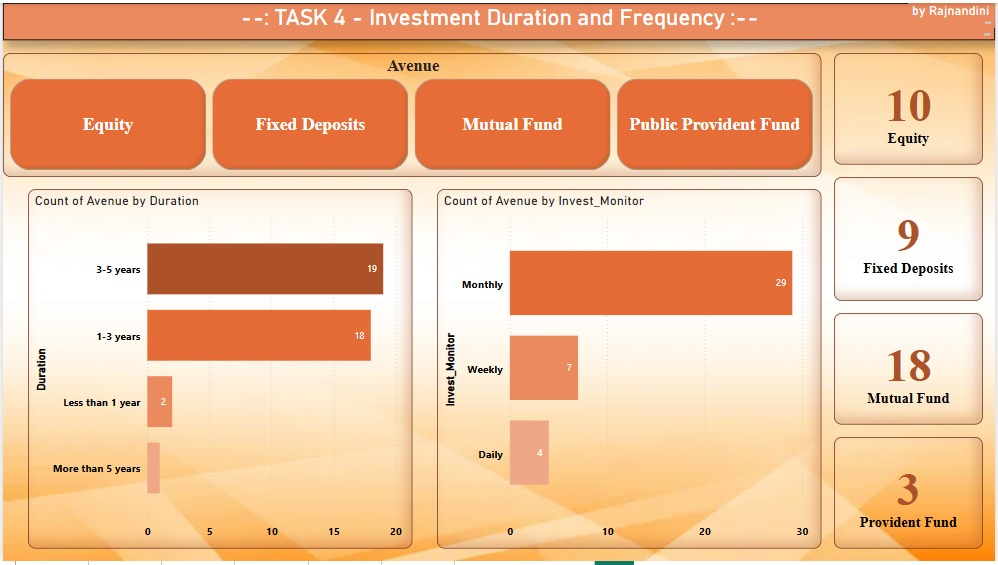

The dashboard page shown, as its layout file describes it:
{"tool":"powerbi","page":{"name":"Task 4","canvas":[1280,720],"ordinal":3},"visuals":[{"type":"textbox","title":"--: TASK 4 - Investment Duration and Frequency :--","box":[0,0,1280,48],"z":0},{"type":"card","fields":{"Values":["Data_set 2.Equity"]},"box":[1072,64,192,144],"z":1000},{"type":"clusteredBarChart","fields":{"Y":["Data_set 2.Avenue"],"Category":["Data_set 2.Duration"]},"box":[32,240,496,464],"z":2000},{"type":"advancedSlicerVisual","title":"Avenue","fields":{"Values":["Data_set 2.Avenue"]},"box":[0,64,1056,160],"z":3000},{"type":"textbox","title":"by Rajnandini","box":[1168,0,112,32],"z":4000},{"type":"clusteredBarChart","fields":{"Y":["Data_set 2.Avenue"],"Category":["Data_set 2.Invest_Monitor"]},"box":[560,240,496,464],"z":5000},{"type":"card","fields":{"Values":["Data_set 2.Fixed Deposits"]},"box":[1072,224,192,160],"z":6000},{"type":"card","fields":{"Values":["Data_set 2.Mutual Fund"]},"box":[1072,400,192,144],"z":7000},{"type":"card","fields":{"Values":["Data_set 2.Public Provident Fund"]},"box":[1072,560,192,144],"z":8000}]}

Visuals, with their boxes in screenshot pixels (x1, y1, x2, y2), scaled from the page's 1280x720 canvas onto the 998x565 screenshot:
"--: TASK 4 - Investment Duration and Frequency :--" textbox: select_region(0, 0, 997, 38)
card - Data_set 2.Equity: select_region(836, 50, 986, 163)
clusteredBarChart - Data_set 2.Avenue x Data_set 2.Duration: select_region(25, 188, 412, 552)
"Avenue" advancedSlicerVisual: select_region(0, 50, 823, 176)
"by Rajnandini" textbox: select_region(911, 0, 997, 25)
clusteredBarChart - Data_set 2.Avenue x Data_set 2.Invest_Monitor: select_region(437, 188, 823, 552)
card - Data_set 2.Fixed Deposits: select_region(836, 176, 986, 301)
card - Data_set 2.Mutual Fund: select_region(836, 314, 986, 427)
card - Data_set 2.Public Provident Fund: select_region(836, 439, 986, 552)
